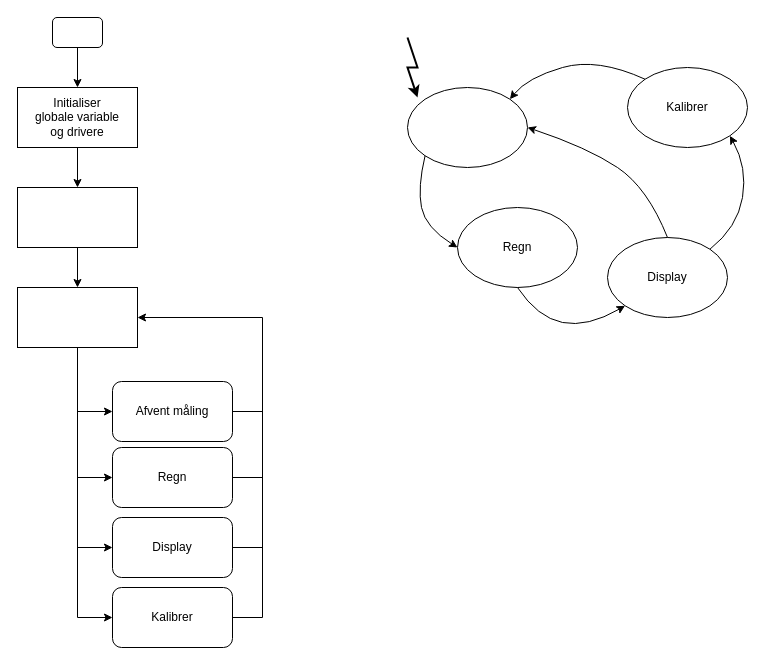
Image size: 765x665. Some labels were removed from this diagram. Here are the shapes that lost their labels. From the top down, the centre of each, then its label:
the point at 77,32: start
the point at 467,127: Afvent målinger
the point at 77,217: Main While()
the point at 77,317: Tilstandsmaskine (switch-case)
